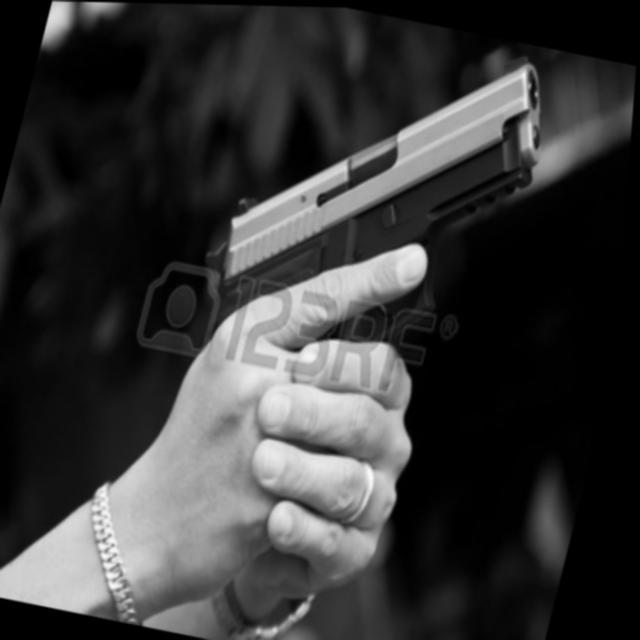weapon: (159, 3, 562, 456)
